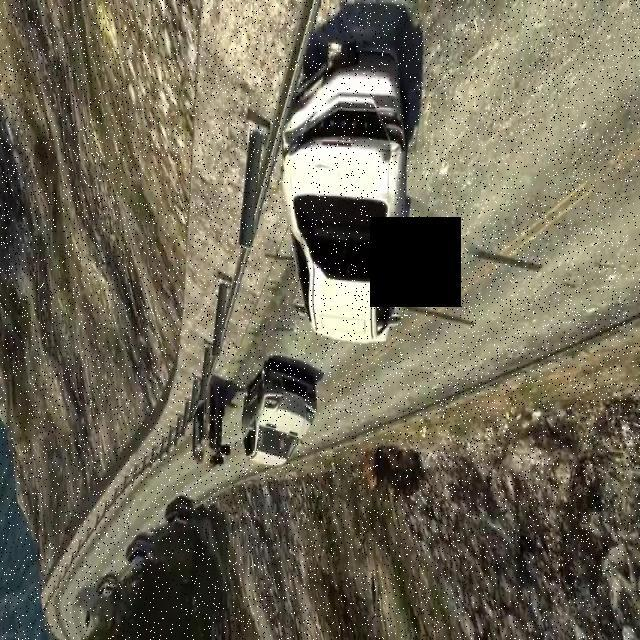severe: (186, 384, 234, 476)
